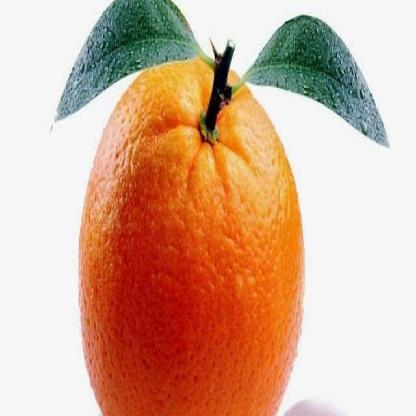orange: (79, 54, 313, 415)
